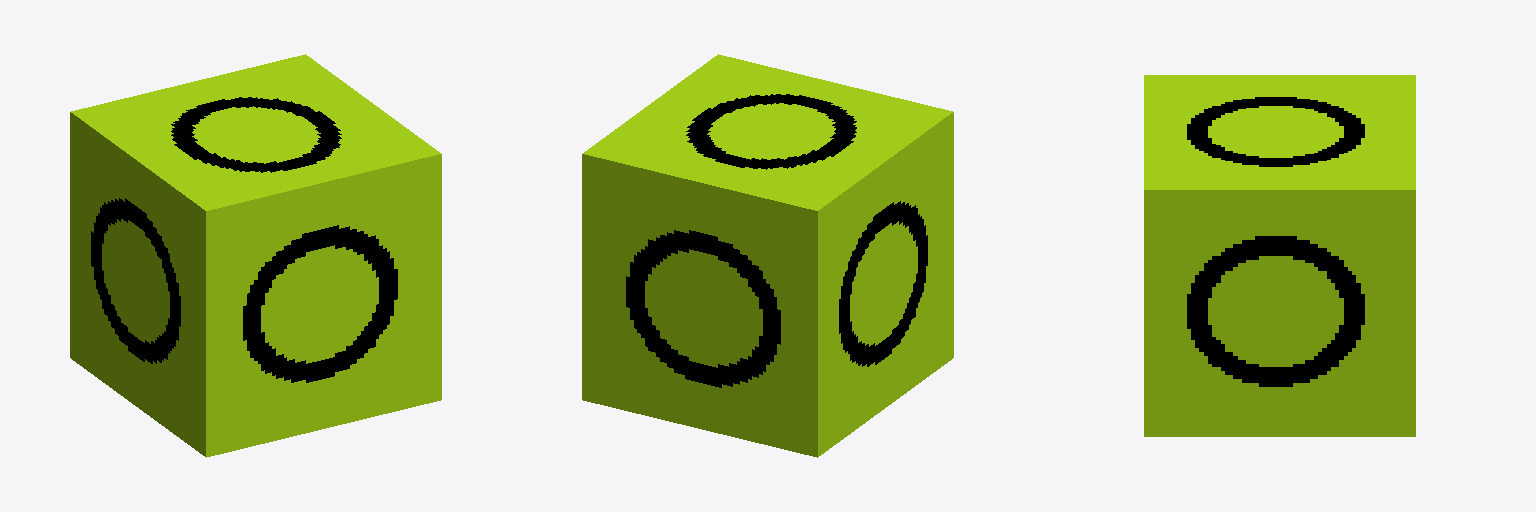
The picture shows the model from 3 angles: view 1: azimuth 30°, elevation 25°; view 2: azimuth 150°, elevation 25°; view 3: azimuth 270°, elevation 25°; orthographic projection.
Parts seen in each view (by area): view 1: Cube; view 2: Cube; view 3: Cube.
Boxes of the visible parts, <box> form: Cube: <box>70,54,441,457</box>; Cube: <box>582,54,953,457</box>; Cube: <box>1144,75,1415,436</box>.
Size of the model in its own units: 2 by 2 by 2.
Materials: 1 (1 with a texture image).